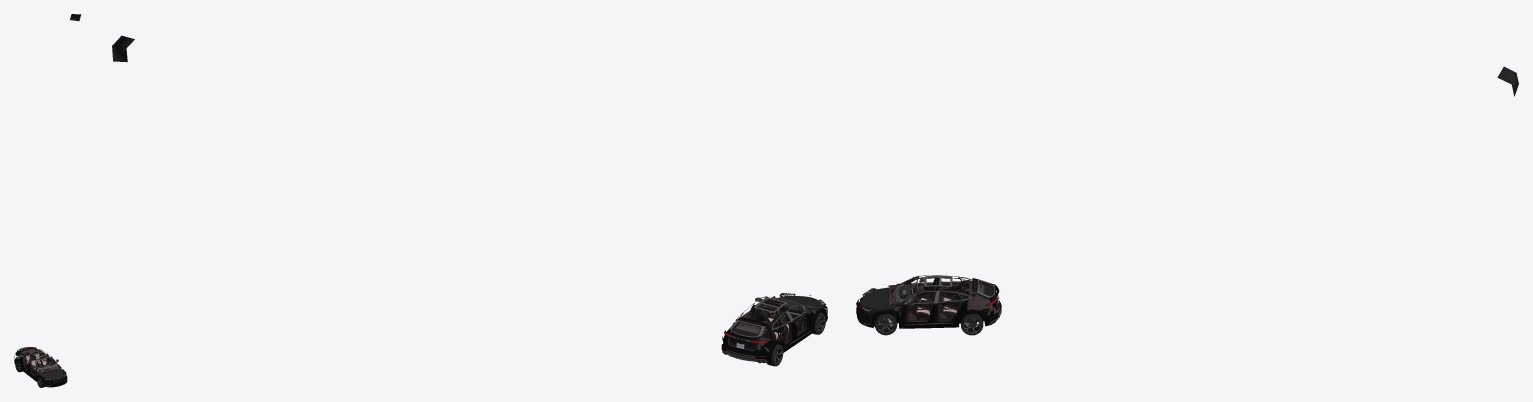
File: urus_parts_min.glb
The picture shows the model from 3 angles, left to right: view 1: azimuth 30°, elevation 25°; view 2: azimuth 150°, elevation 25°; view 3: azimuth 270°, elevation 25°; orthographic projection. The views are drawn at different scales.
Parts seen in each view (by area): view 1: Kit1_Interior_Geo_lodA_Lamborghini_UrusRewardRecycled_2018In, Coloured_Geo_lodA_Lamborghini_UrusRewardRecycled_2018Coloure, body:Paint_Geo_lodABody_lodA, Cube, Kit1_InteriorTillingColourZone_Geo_lodA_Lamborghini_UrusRewa; view 2: Kit1_Interior_Geo_lodA_Lamborghini_UrusRewardRecycled_2018In, Coloured_Geo_lodA_Lamborghini_UrusRewardRecycled_2018Coloure, body:Paint_Geo_lodABody_lodA; view 3: Kit1_Interior_Geo_lodA_Lamborghini_UrusRewardRecycled_2018In, Coloured_Geo_lodA_Lamborghini_UrusRewardRecycled_2018Coloure, body:Paint_Geo_lodABody_lodA, Cube.
Boxes of the visible parts, bbox=[...] form: Kit1_Interior_Geo_lodA_Lamborghini_UrusRewardRecycled_2018In: bbox=[17, 347, 56, 379]; Coloured_Geo_lodA_Lamborghini_UrusRewardRecycled_2018Coloure: bbox=[14, 347, 66, 386]; body:Paint_Geo_lodABody_lodA: bbox=[14, 347, 67, 387]; Cube: bbox=[37, 368, 64, 380]; Kit1_InteriorTillingColourZone_Geo_lodA_Lamborghini_UrusRewa: bbox=[26, 352, 46, 371]; Kit1_Interior_Geo_lodA_Lamborghini_UrusRewardRecycled_2018In: bbox=[728, 296, 811, 350]; Coloured_Geo_lodA_Lamborghini_UrusRewardRecycled_2018Coloure: bbox=[721, 296, 827, 363]; body:Paint_Geo_lodABody_lodA: bbox=[721, 296, 827, 361]; Kit1_Interior_Geo_lodA_Lamborghini_UrusRewardRecycled_2018In: bbox=[897, 276, 997, 325]; Coloured_Geo_lodA_Lamborghini_UrusRewardRecycled_2018Coloure: bbox=[862, 275, 1001, 328]; body:Paint_Geo_lodABody_lodA: bbox=[856, 278, 1001, 328]; Cube: bbox=[860, 287, 898, 312].
Size of the model in its own units: 0.161 by 0.1655 by 0.2315.
Materials: 26 (18 with a texture image).
